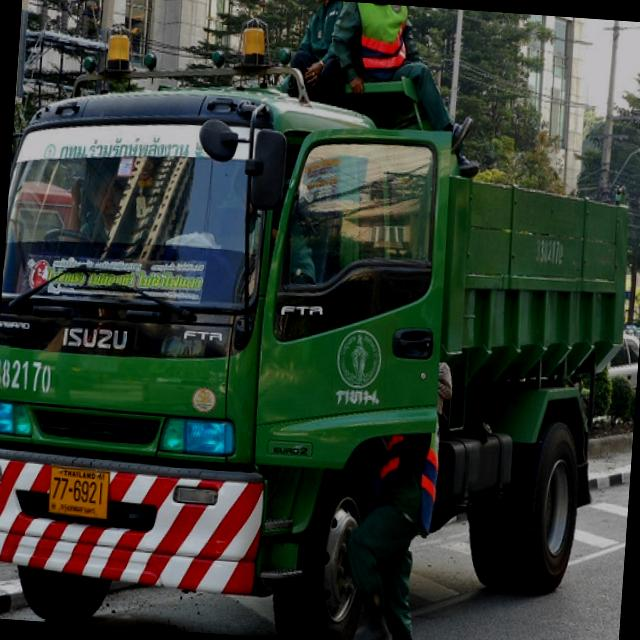Vehicle: (0, 9, 640, 640), (607, 324, 640, 398)
